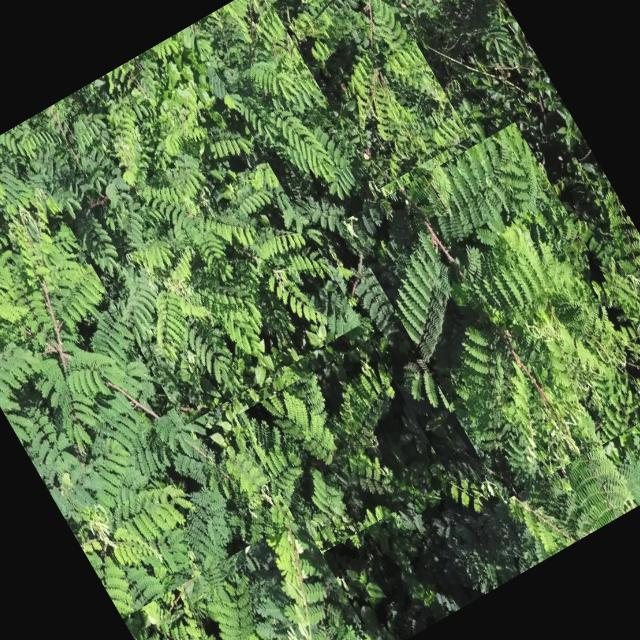Mysore-Thorn-Weed: (0, 105, 283, 603), (13, 26, 362, 426), (344, 121, 640, 500), (141, 0, 386, 242), (236, 338, 451, 556), (271, 0, 470, 189), (122, 516, 375, 640), (473, 407, 640, 571)
